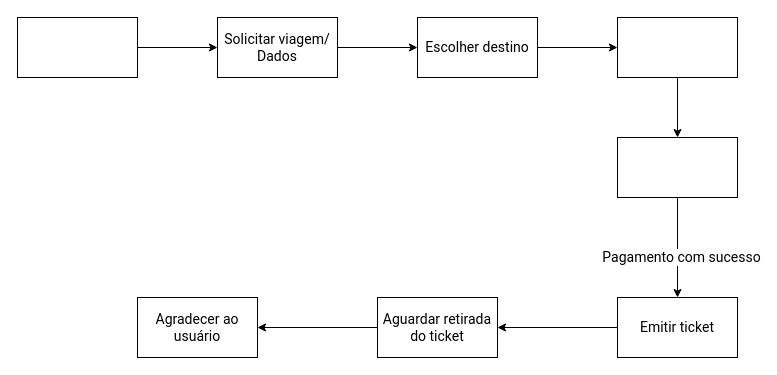
The diagram is 777 pixels wide and 375 high, and some of its shapes have lost their labels. The centre of each missing label's shape, as x and y in pixels:
Início: [77,47]
Processar pagamento (cartão/dinheiro): [677,167]
Solicitar forma de pagamento: [677,47]
